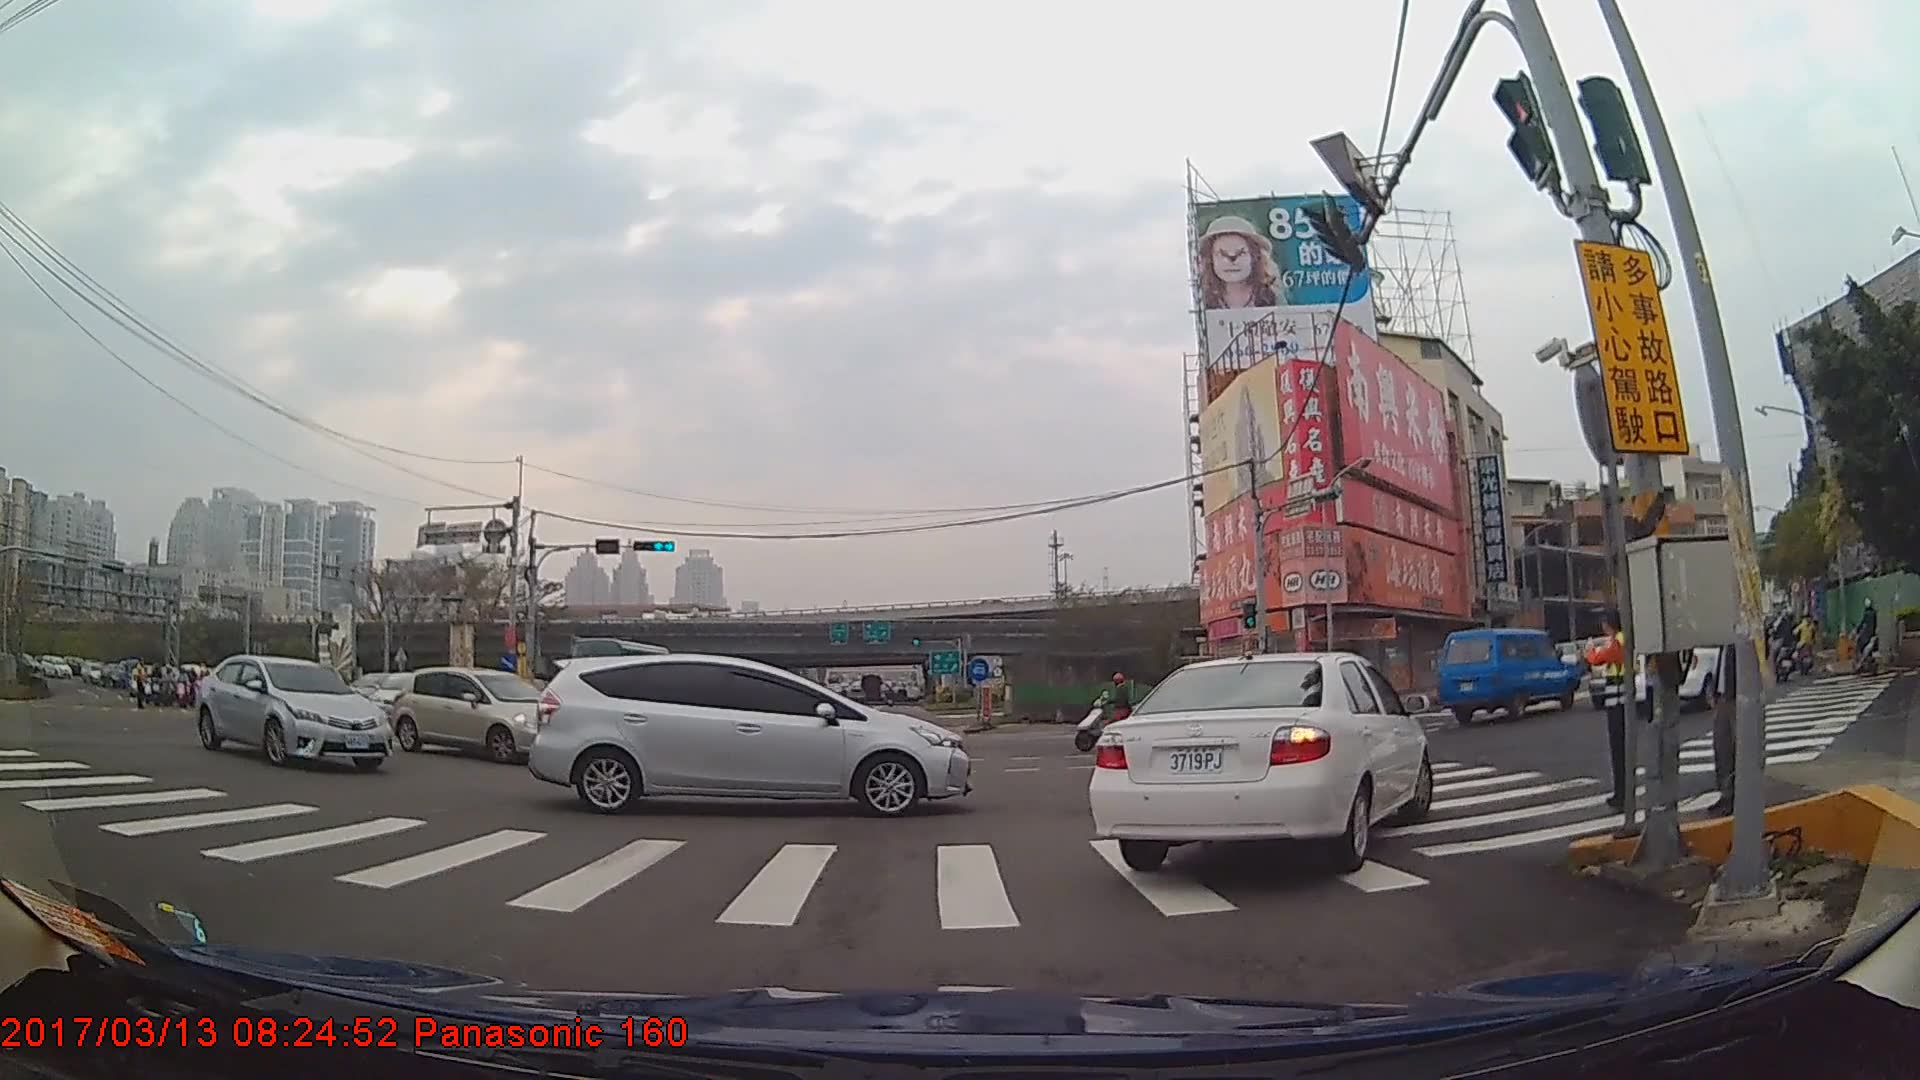pedestrian: (1686, 545, 1771, 829)
rider: (1074, 669, 1159, 754), (1844, 594, 1883, 679), (1774, 606, 1801, 683), (1794, 607, 1817, 682)
vehicle: (1089, 648, 1432, 873), (524, 652, 968, 817), (193, 653, 393, 773), (390, 665, 566, 762), (1431, 626, 1578, 722)
